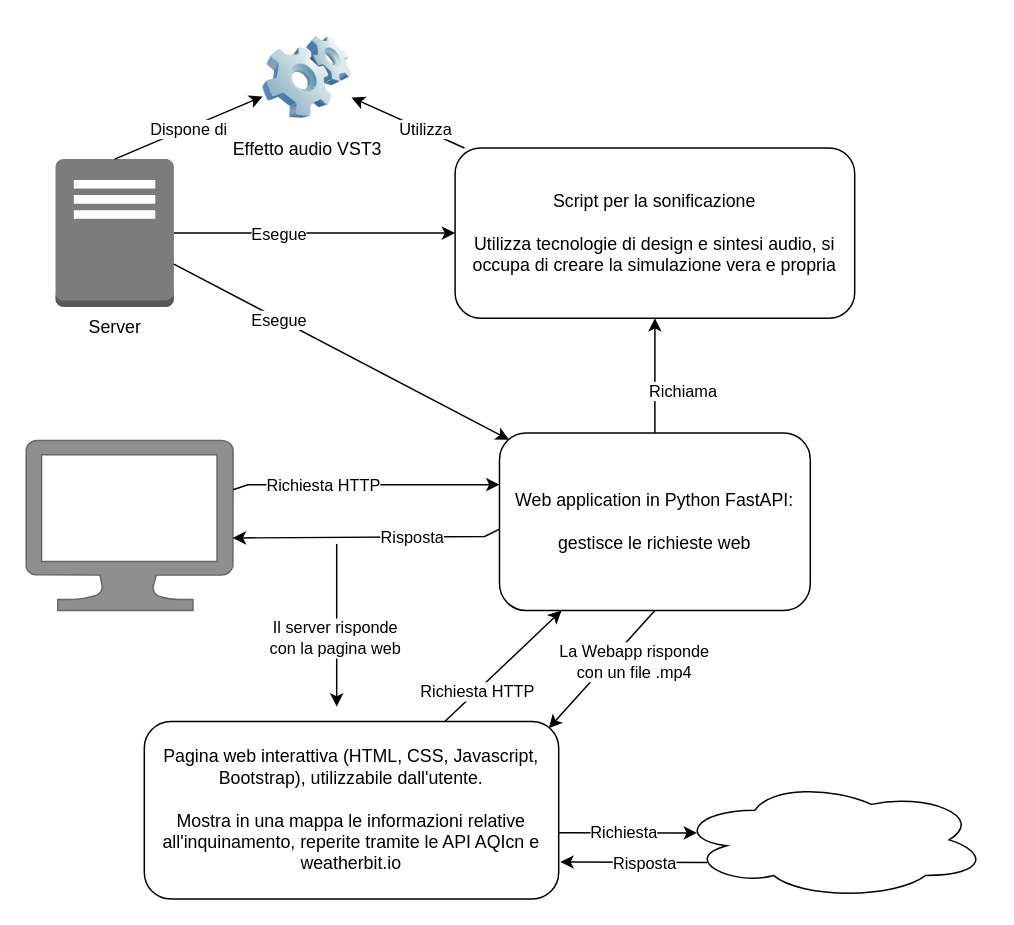
This 1014x925 diagram has some shape labels left out. Each missing label, with the box of its shape:
API esterne AQIcn, weatherbit.io ecc: (676, 779, 988, 899)
Dispositivo dell'utente con un broswer web: (24, 439, 233, 610)
